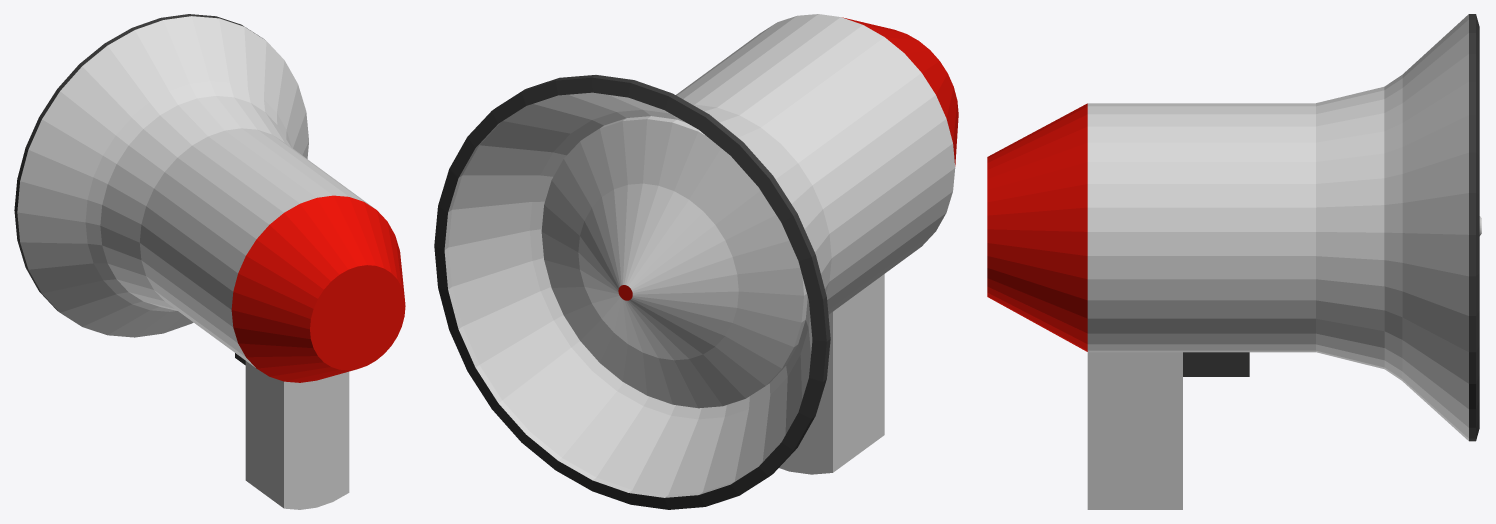
The model's file is megaphone.glb.
3 renders of one model, left to right at view 1: azimuth 30°, elevation 25°; view 2: azimuth 150°, elevation 25°; view 3: azimuth 270°, elevation 25°, orthographic. The views are drawn at different scales.
Visible parts, largest first — view 1: Cone; view 2: Cone; view 3: Cone.
Boxes of the visible parts, x1,y1,x2,y2 form: Cone: (14,14,405,509); Cone: (434,14,958,509); Cone: (987,14,1481,509).
Size of the model in its own units: 2.94 by 3.62 by 3.48.
